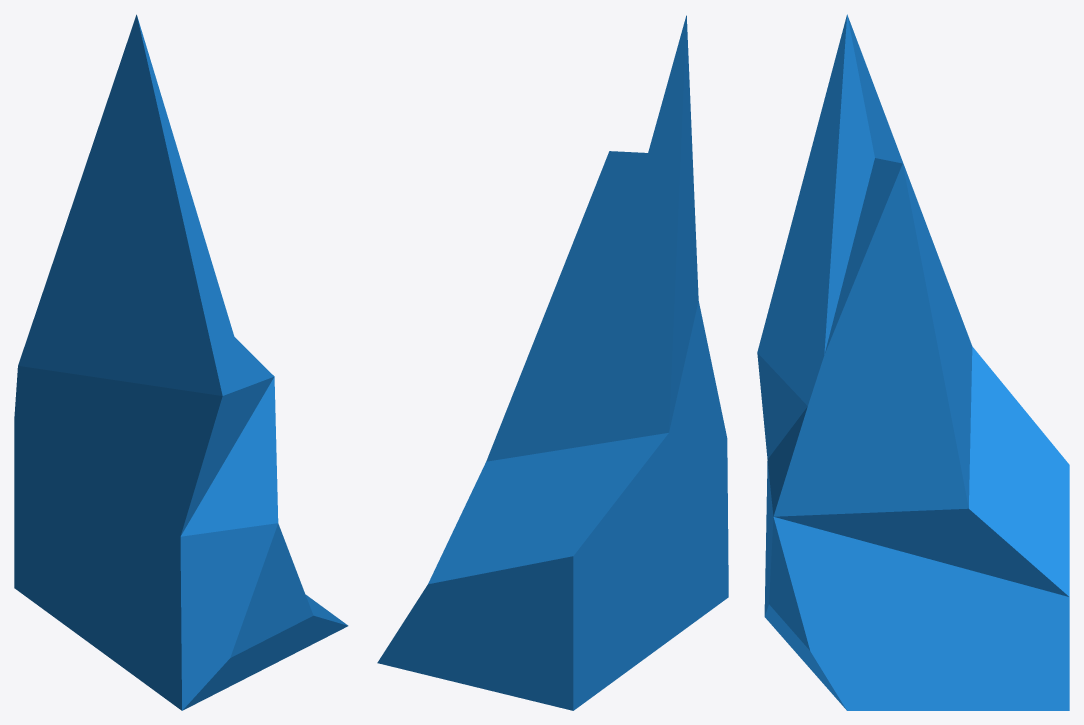
The model's file is Mesh_Montagne1.fbx.
3 renders of one model, left to right at view 1: azimuth 30°, elevation 25°; view 2: azimuth 150°, elevation 25°; view 3: azimuth 270°, elevation 25°, orthographic. The views are drawn at different scales.
Parts seen in each view (by area): view 1: montagne.001; view 2: montagne.001; view 3: montagne.001.
Boxes of the visible parts, x1,y1,x2,y2 form: montagne.001: (14,14,348,710); montagne.001: (377,15,728,710); montagne.001: (757,14,1069,710).
Bounding box in the file's own units: 5203 × 12601 × 5917.
